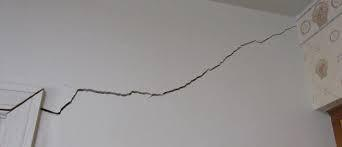crack: (40, 25, 296, 115)
